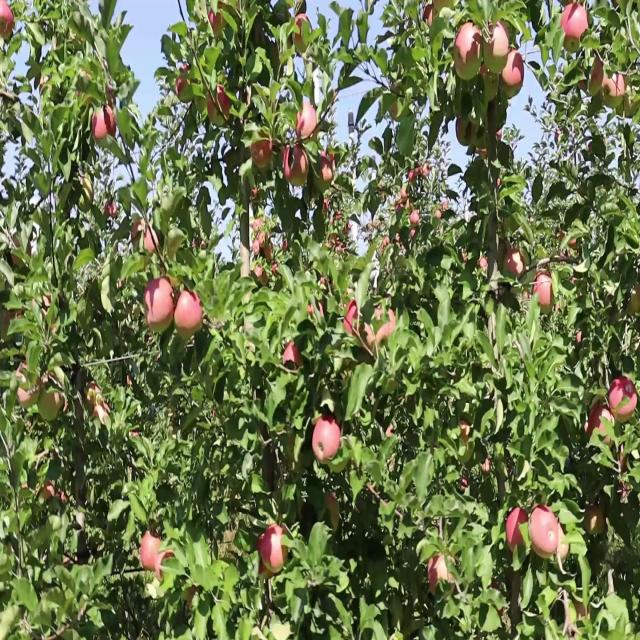apple: (480, 21, 510, 100), (144, 277, 176, 334), (456, 21, 483, 84), (532, 504, 562, 560), (260, 526, 288, 581), (608, 376, 640, 423), (144, 533, 175, 581), (484, 21, 510, 75), (312, 419, 343, 464), (176, 291, 204, 340), (588, 398, 616, 444), (500, 49, 525, 100), (428, 554, 457, 594), (16, 362, 40, 409), (284, 149, 311, 190), (580, 56, 605, 100), (564, 7, 589, 48), (296, 99, 319, 142), (132, 220, 159, 256), (604, 71, 627, 112), (92, 106, 118, 142), (376, 305, 397, 347), (532, 270, 555, 308), (208, 85, 232, 121), (252, 135, 273, 176), (140, 533, 162, 572), (508, 511, 528, 551), (480, 63, 500, 103), (584, 504, 608, 535), (292, 14, 311, 53), (324, 490, 340, 533), (156, 547, 175, 583), (12, 234, 32, 268), (176, 63, 193, 100), (344, 305, 362, 338), (284, 341, 304, 370), (132, 220, 152, 249), (0, 7, 16, 43), (320, 149, 336, 185), (456, 113, 472, 149), (508, 248, 526, 277), (208, 7, 225, 37), (360, 327, 378, 354), (424, 7, 446, 28), (4, 312, 23, 336), (604, 78, 617, 112), (628, 284, 640, 318), (620, 447, 629, 491), (560, 526, 571, 560), (616, 71, 628, 101), (96, 405, 111, 427), (104, 199, 119, 220), (88, 383, 100, 409), (84, 177, 95, 204), (460, 419, 472, 441), (480, 255, 491, 276), (256, 270, 269, 286), (484, 455, 492, 476)
